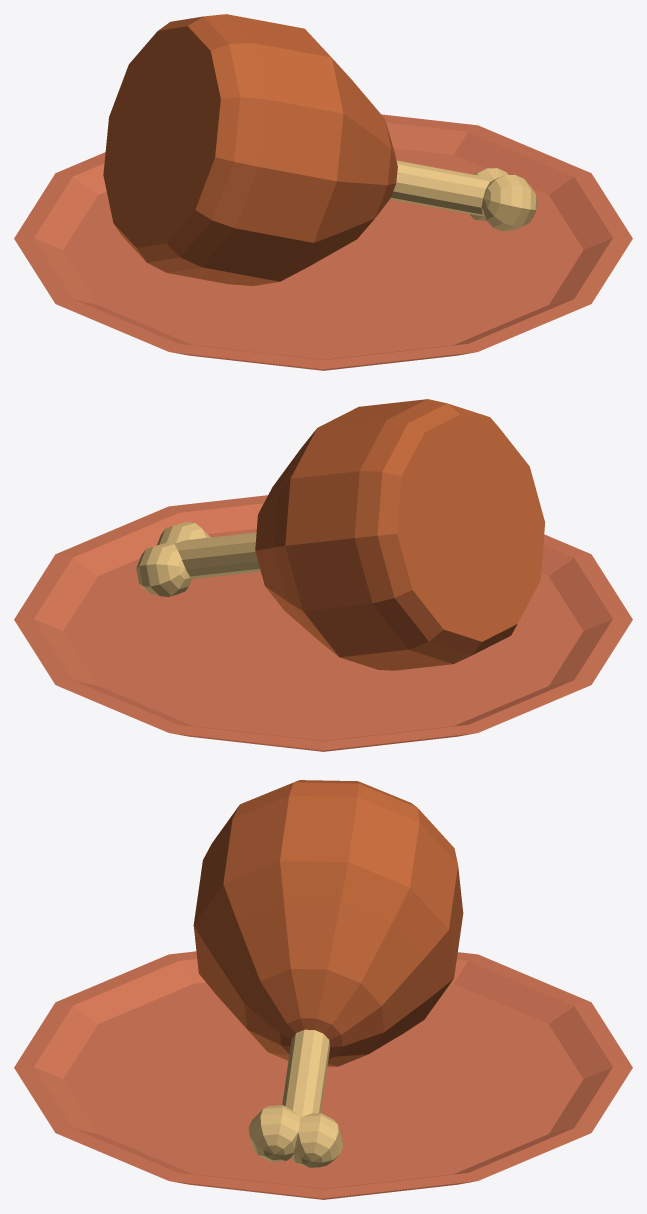
Rendered from meat.fbx.
3 views of the same model, one above another, from view 1: azimuth 30°, elevation 25°; view 2: azimuth 150°, elevation 25°; view 3: azimuth 270°, elevation 25° (orthographic).
Parts seen in each view (by area): view 1: Circle, Circle.001, Cylinder; view 2: Circle, Circle.001, Cylinder; view 3: Circle, Circle.001, Cylinder.
Part boxes in pixels (bbox=[...]): Circle: bbox=[14, 114, 632, 370]; Circle.001: bbox=[103, 14, 397, 285]; Cylinder: bbox=[390, 160, 536, 231]; Circle: bbox=[14, 495, 632, 751]; Circle.001: bbox=[255, 399, 545, 670]; Cylinder: bbox=[136, 522, 260, 596]; Circle: bbox=[14, 951, 632, 1199]; Circle.001: bbox=[193, 780, 463, 1066]; Cylinder: bbox=[248, 1029, 342, 1167].
Size of the model in its own units: 231 by 105 by 231.
